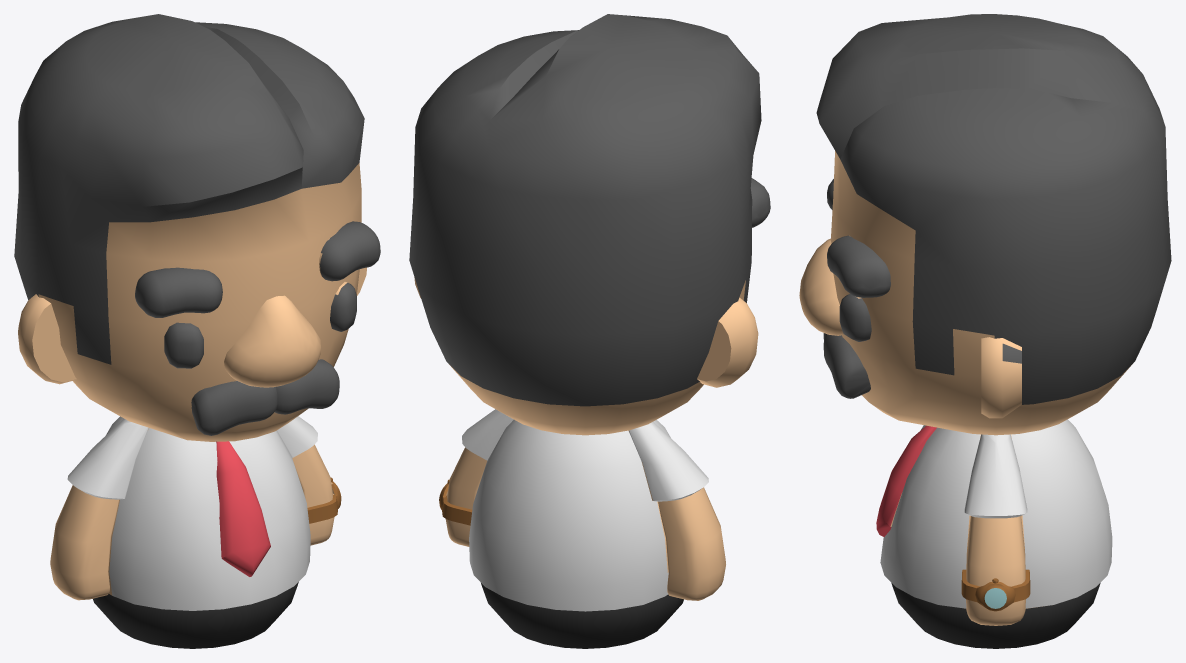
Rendered from enemyBossAnim.fbx.
The picture shows the model from 3 angles, left to right: view 1: azimuth 30°, elevation 25°; view 2: azimuth 150°, elevation 25°; view 3: azimuth 270°, elevation 25°; orthographic projection.
Visible parts, largest first — view 1: PrototypePete_head, PrototypePete_body, PrototypePete_armRight, PrototypePete_armLeft; view 2: PrototypePete_head, PrototypePete_body, PrototypePete_armRight, PrototypePete_armLeft; view 3: PrototypePete_head, PrototypePete_body, PrototypePete_armLeft.
Boxes of the visible parts, x1,y1,x2,y2 form: PrototypePete_head: (14,14,380,441); PrototypePete_body: (93,416,310,648); PrototypePete_armRight: (50,418,148,600); PrototypePete_armLeft: (276,416,341,545); PrototypePete_head: (409,14,770,435); PrototypePete_body: (469,419,683,648); PrototypePete_armRight: (629,421,725,600); PrototypePete_armLeft: (439,409,513,546); PrototypePete_head: (799,14,1171,435); PrototypePete_body: (876,419,1112,648); PrototypePete_armLeft: (961,434,1030,625).
Bounding box in the file's own units: 118 × 190 × 112.
